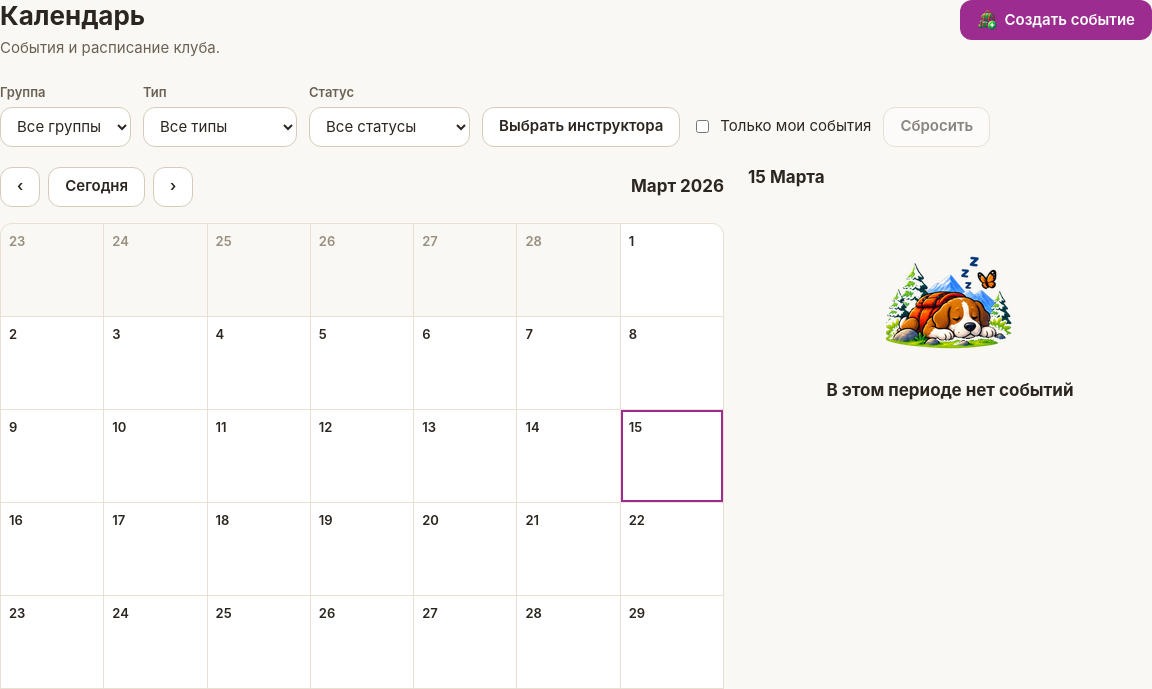
Test case: EventsPage — instructor/user filter (TH-0107) › shows a loading state while the directory is being fetched
The width and height of the screenshot is (1152, 689).
Step 1. Click the button "Выбрать инструктора" → (581, 126), box 482,106 -> 680,146
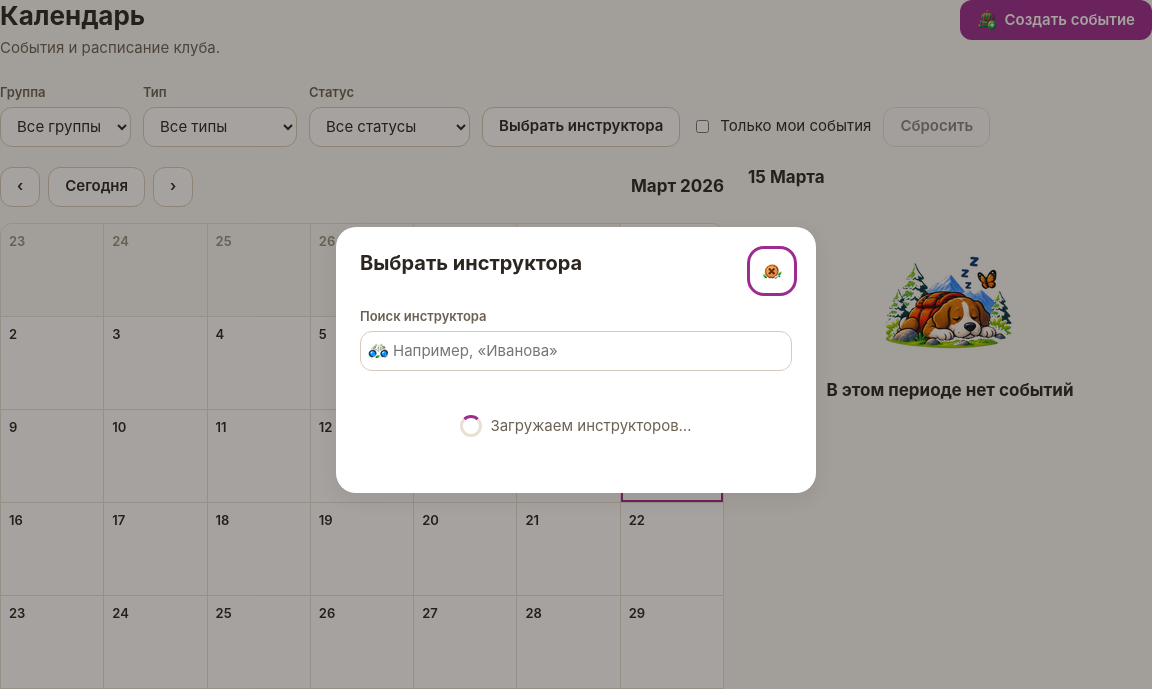
Expected: the text "Загружаем инструкторов…" is shown, 490,414 -> 692,437
